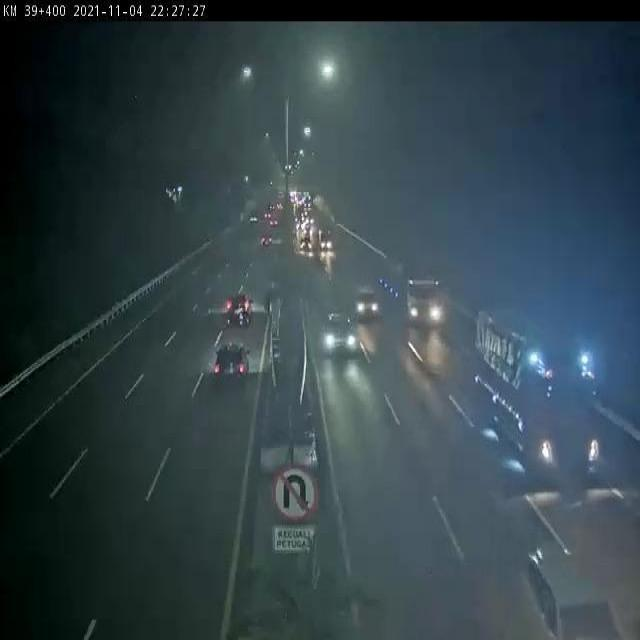car: (320, 309, 356, 352), (214, 344, 250, 384), (352, 288, 380, 321), (225, 294, 249, 326)
truck-l-: (475, 308, 598, 477)
truck-xl-: (381, 256, 441, 325)
